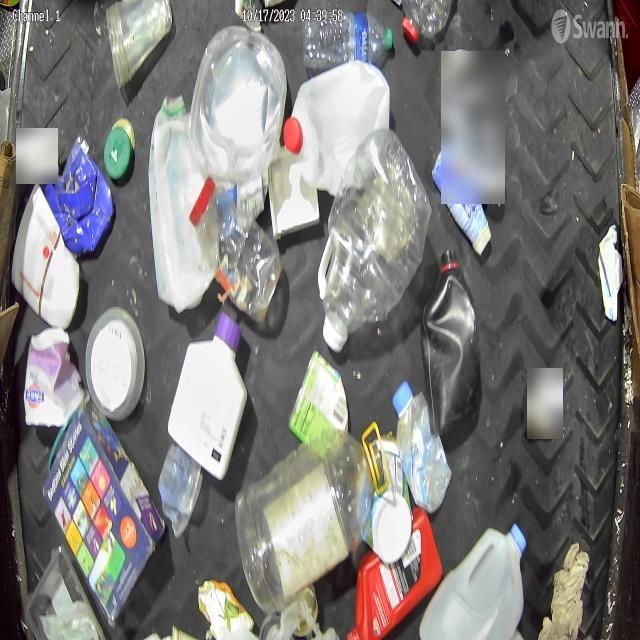milk_jug: (289, 61, 389, 198), (149, 92, 208, 310), (421, 522, 528, 640)
non_white_jug: (347, 505, 443, 640), (422, 248, 480, 444)
plastic_bottle: (234, 430, 385, 614), (318, 132, 430, 350), (190, 177, 284, 326), (392, 381, 452, 514), (304, 10, 394, 74), (399, 0, 460, 46)
